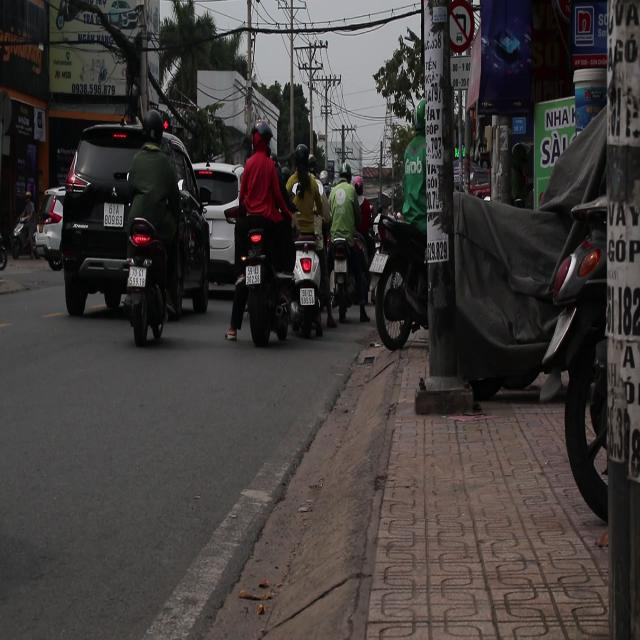car: (56, 111, 212, 329), (195, 164, 240, 295), (32, 188, 64, 268)
motorbike: (232, 228, 300, 354), (368, 210, 428, 352), (119, 217, 173, 348), (321, 212, 365, 344), (291, 235, 328, 339)
